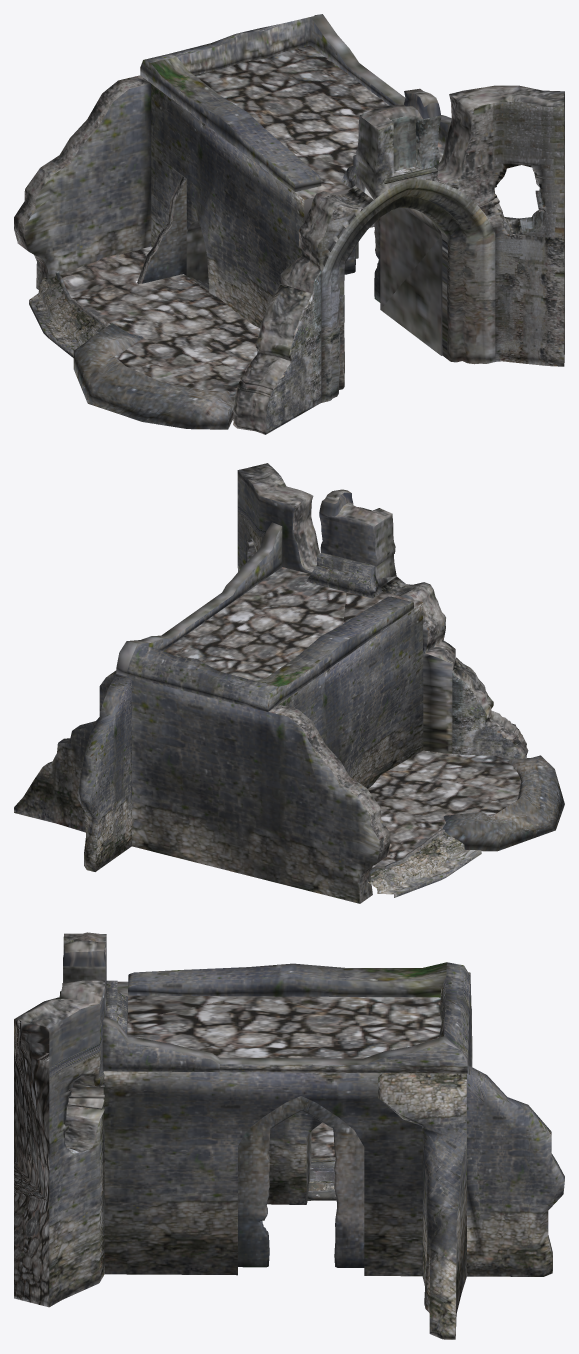
File: Ruin.fbx
3 renders of one model, top to bottom at view 1: azimuth 30°, elevation 25°; view 2: azimuth 150°, elevation 25°; view 3: azimuth 270°, elevation 25°, orthographic. The views are drawn at different scales.
Visible parts, largest first — view 1: Ruin; view 2: Ruin; view 3: Ruin.
Boxes of the visible parts, x1=… form: Ruin: x1=14, y1=14, x2=564, y2=434; Ruin: x1=14, y1=463, x2=564, y2=903; Ruin: x1=14, y1=932, x2=564, y2=1339.
Size of the model in its own units: 753 by 417 by 699.
